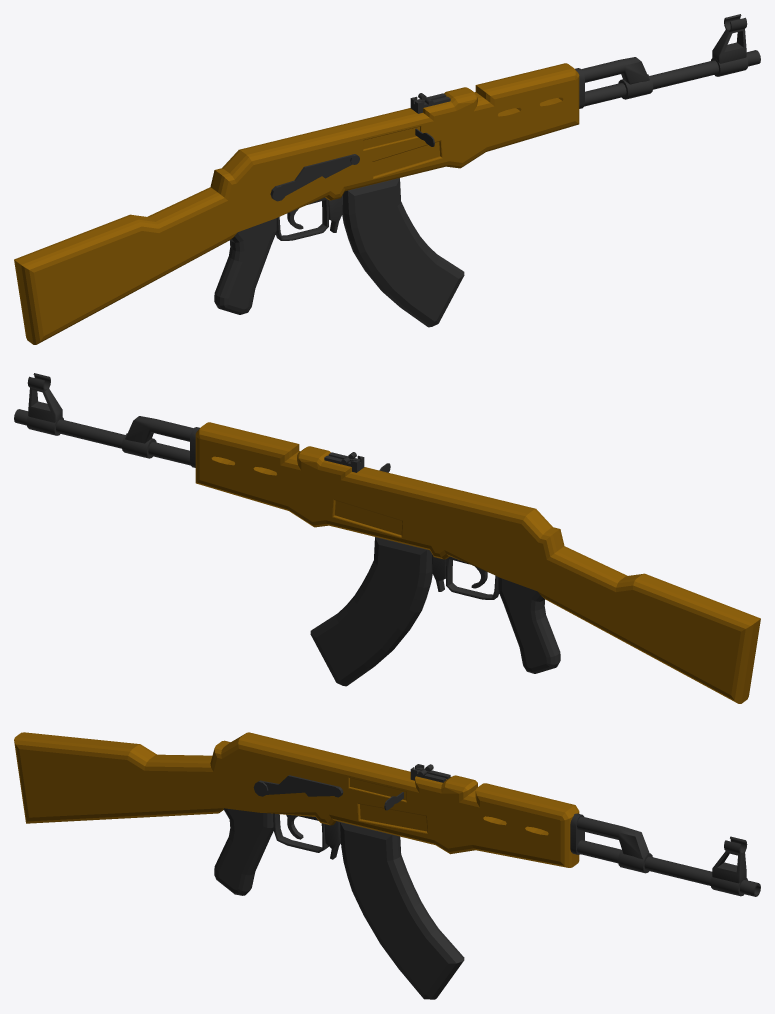
3 renders of one model, top to bottom at view 1: azimuth 30°, elevation 25°; view 2: azimuth 150°, elevation 25°; view 3: azimuth 330°, elevation 25°, orthographic.
Visible parts, largest first — view 1: Автомат, Магазин, Ствол, Ручка, Перемикач, Приціл, Рамка; view 2: Автомат, Магазин, Ствол, Ручка, Приціл, Рамка; view 3: Автомат, Магазин, Ствол, Ручка, Перемикач, Рамка, Приціл, Прицільна_планка.
Part boxes in pixels (x1,y1,x2,y2): Автомат: (14, 63, 579, 344); Магазин: (342, 178, 464, 327); Ствол: (575, 50, 760, 108); Ручка: (214, 218, 277, 314); Перемикач: (270, 154, 359, 201); Приціл: (712, 14, 747, 63); Рамка: (275, 195, 342, 240); Автомат: (195, 422, 760, 703); Магазин: (310, 537, 432, 686); Ствол: (14, 409, 199, 467); Ручка: (497, 577, 560, 673); Приціл: (27, 373, 62, 422); Рамка: (432, 554, 499, 599); Автомат: (14, 732, 579, 867); Магазин: (340, 822, 464, 999); Ствол: (570, 813, 760, 896); Ручка: (214, 808, 273, 895); Перемикач: (253, 775, 343, 797); Рамка: (273, 813, 340, 859); Приціл: (712, 836, 747, 883); Прицільна_планка: (410, 764, 450, 782).
Size of the model in its own units: 87.1 by 26.31 by 6.51.
